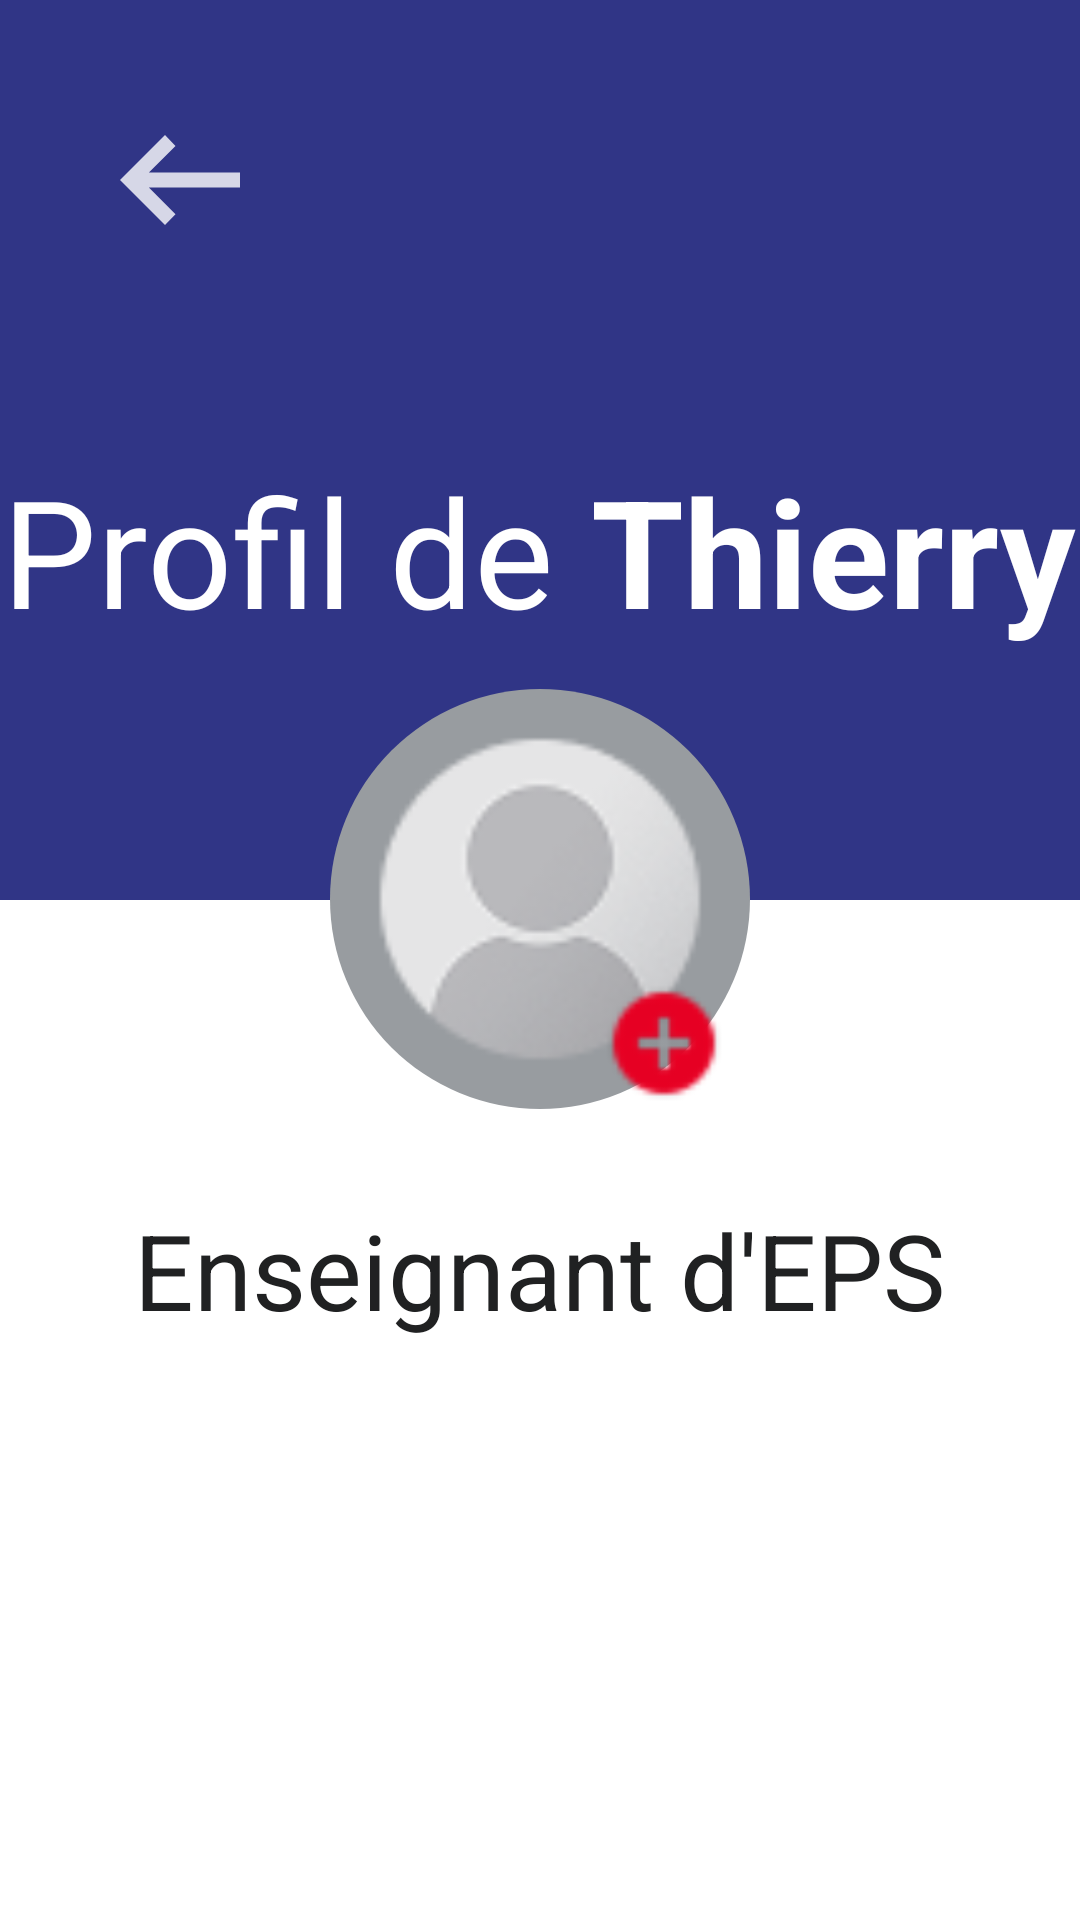

Screen size 1080px x 1920px. Icon name, then its center in pixels as point (x, y):
arrow back: point (180, 180)
